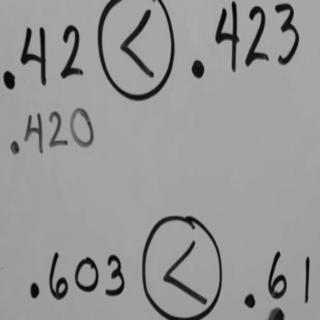.: (189, 58, 208, 81), (1, 68, 18, 92), (26, 281, 41, 299), (243, 293, 258, 310), (8, 139, 21, 155)
0: (69, 107, 94, 149), (74, 257, 100, 293)
1: (302, 254, 312, 304)
2: (244, 5, 271, 68), (58, 24, 87, 79), (47, 110, 69, 150)
3: (272, 3, 301, 66), (104, 254, 126, 298)
4: (214, 1, 242, 73), (19, 26, 51, 88), (23, 112, 45, 155)
6: (266, 251, 289, 300), (48, 251, 70, 301)
